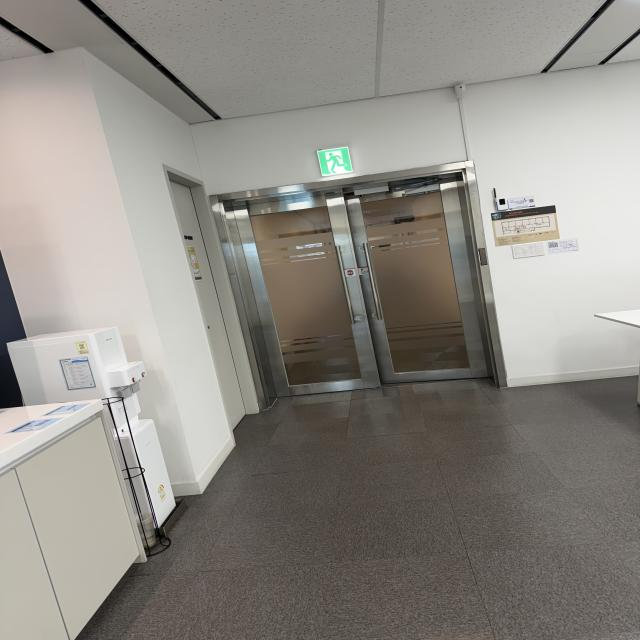rear_door: (231, 174, 493, 400)
